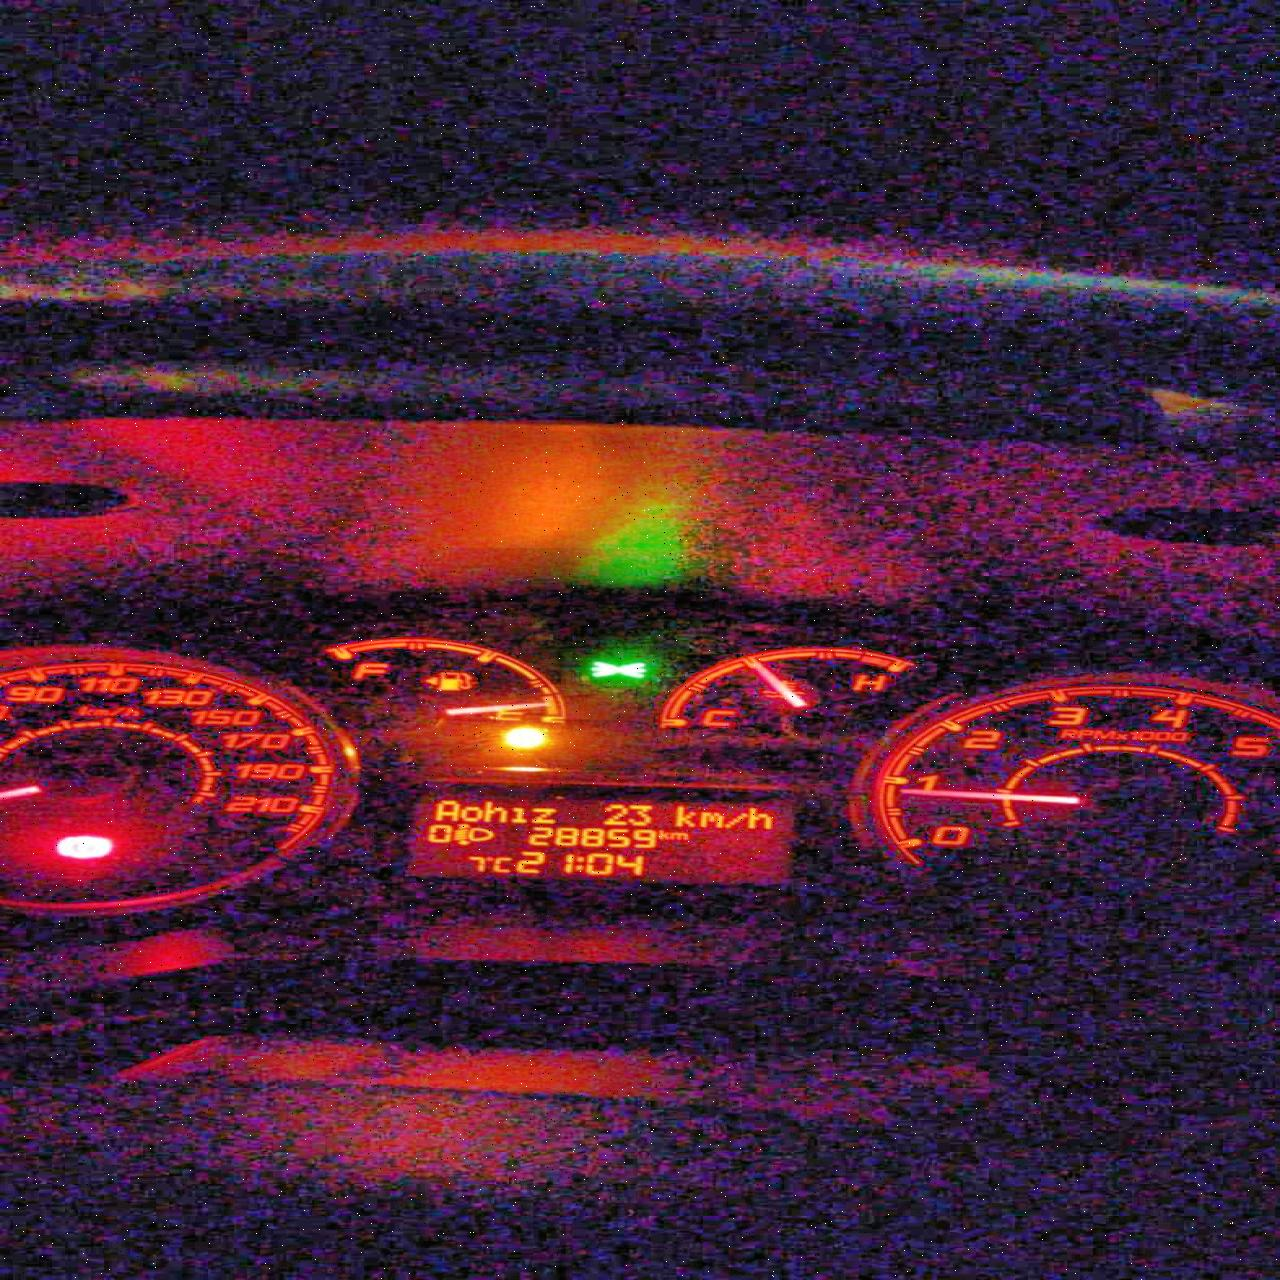0: (587, 852, 614, 874), (425, 824, 452, 843)
1: (559, 852, 576, 874)
2: (513, 850, 543, 877), (604, 802, 626, 825), (526, 825, 551, 846)
3: (628, 802, 654, 824)
4: (614, 853, 645, 876)
5: (608, 825, 631, 849)
7: (467, 855, 484, 872)
8: (553, 825, 577, 846), (579, 828, 604, 847)
X: (748, 806, 774, 831), (483, 799, 509, 823), (433, 798, 458, 821), (675, 802, 694, 829), (697, 809, 722, 829), (458, 804, 483, 822), (532, 805, 557, 823), (492, 855, 512, 874), (723, 811, 747, 828), (509, 805, 527, 824), (668, 831, 687, 840), (574, 853, 584, 872), (655, 828, 668, 840)
odometer: (384, 788, 802, 885)
